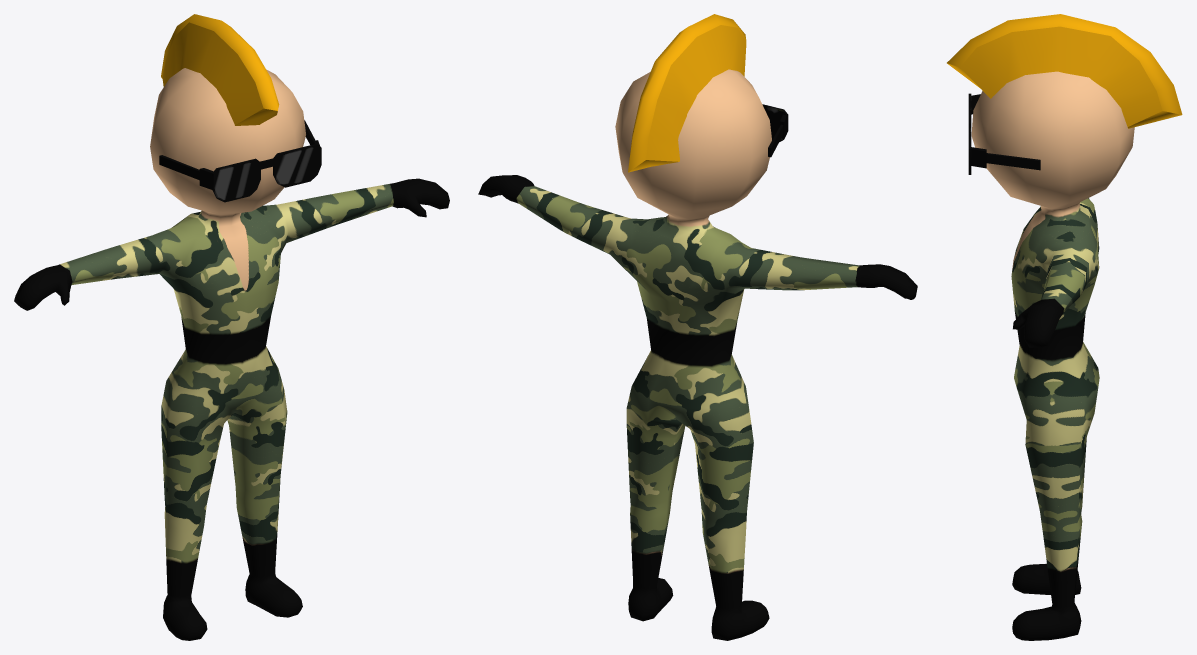
Rendered from boss.FBX.
The picture shows the model from 3 angles, left to right: view 1: azimuth 30°, elevation 25°; view 2: azimuth 150°, elevation 25°; view 3: azimuth 270°, elevation 25°; orthographic projection.
Size of the model in its own units: 1.04 by 1.38 by 0.4921.
1 material, 1 textured.
